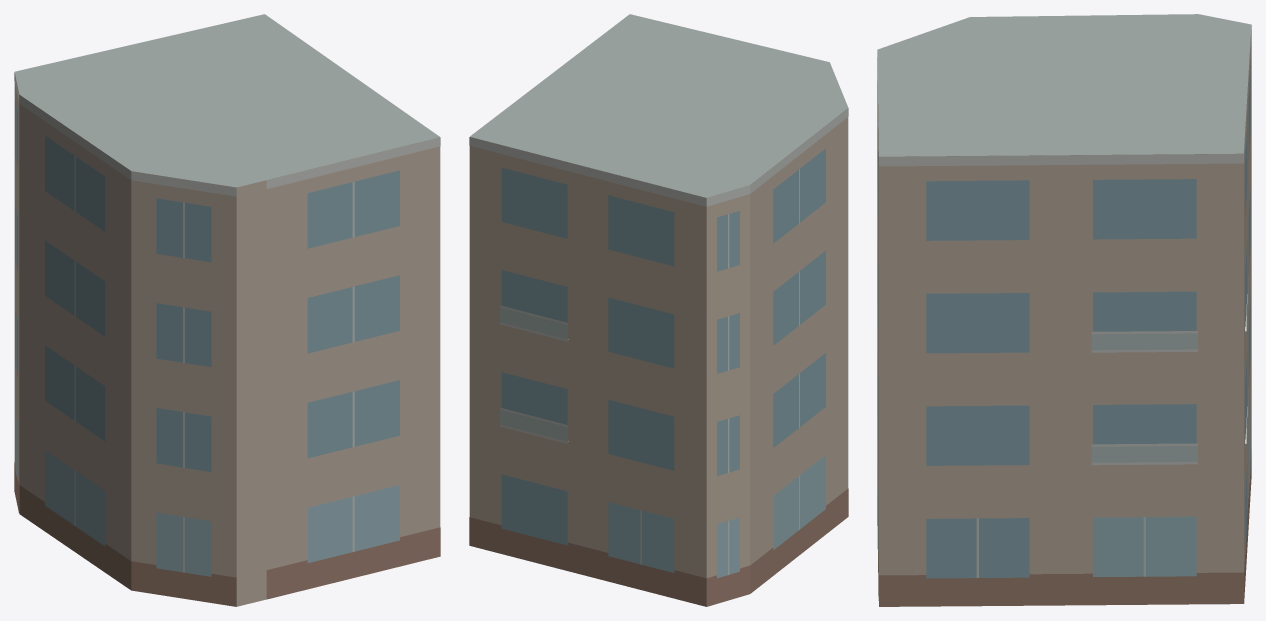
Rendered from survey-upis-33037216.glb.
The picture shows the model from 3 angles, left to right: view 1: azimuth 30°, elevation 25°; view 2: azimuth 150°, elevation 25°; view 3: azimuth 270°, elevation 25°; orthographic projection. The views are drawn at different scales.
Visible parts, largest first — view 1: survey-upis-33037216.tmp; view 2: survey-upis-33037216.tmp; view 3: survey-upis-33037216.tmp.
Part boxes in pixels (box(x1,y1,x2,y2)): survey-upis-33037216.tmp: box(14, 14, 440, 606); survey-upis-33037216.tmp: box(469, 14, 848, 606); survey-upis-33037216.tmp: box(877, 14, 1251, 606).
Bounding box in the file's own units: 7.62 × 11.2 × 8.45.
